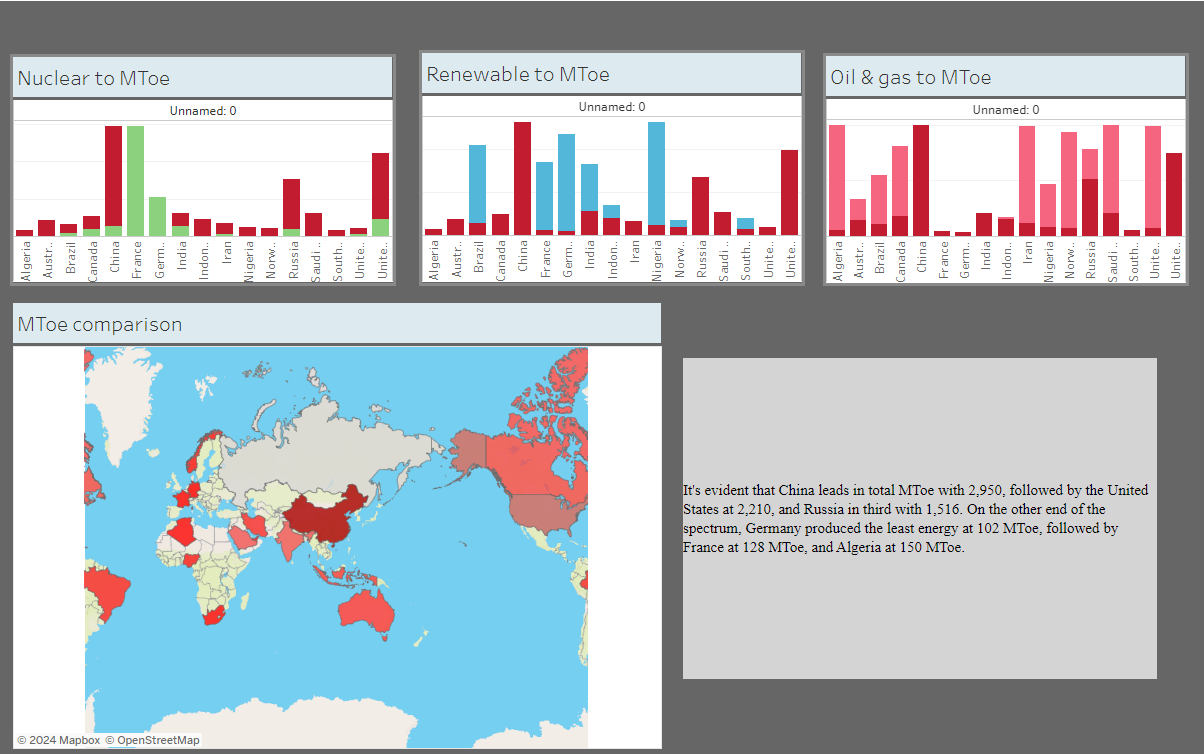

The page's visual inventory and layout, read from the dashboard file:
{"tool":"tableau","page":{"name":"Mtoe conclusion","canvas":[1000,1000],"units":"permille","ordinal":1},"visuals":[{"type":"title","box":[6.6,9.9,986.9,71.9]},{"type":"worksheet","title":"renewable to MToe","mark":"Automatic","rows":["Renewable","Total (MToe)"],"cols":[" 0"],"box":[341.8,109,332.8,314.8]},{"type":"worksheet","title":"oil & gas to MToe","mark":"Automatic","rows":["Oil & Gas","Total (MToe)"],"cols":[" 0"],"box":[673,112.8,316.4,311]},{"type":"worksheet","title":"nuclear to MToe","mark":"Automatic","rows":["Total (MToe)","Nuclear"],"cols":[" 0"],"box":[6.6,114,332.8,309.8]},{"type":"worksheet","title":"Mtoe comparison","mark":"Multipolygon","box":[17.2,432.5,532,549]},{"type":"text","box":[564.8,498.1,391.8,400.2]}]}

Visuals, with their boxes on the dashboard's canvas, which has no fixed pixel size, in thousandths of its width and height (x1, y1, x2, y2). These are canvas units, not pixel positions in the 1204x754 screenshot, which may show the page scaled, cropped or inside an application window:
title: {"x1": 7, "y1": 10, "x2": 994, "y2": 82}
"renewable to MToe" worksheet: {"x1": 342, "y1": 109, "x2": 675, "y2": 424}
"oil & gas to MToe" worksheet: {"x1": 673, "y1": 113, "x2": 989, "y2": 424}
"nuclear to MToe" worksheet: {"x1": 7, "y1": 114, "x2": 339, "y2": 424}
"Mtoe comparison" worksheet (Multipolygon marks): {"x1": 17, "y1": 432, "x2": 549, "y2": 982}
text: {"x1": 565, "y1": 498, "x2": 957, "y2": 898}
